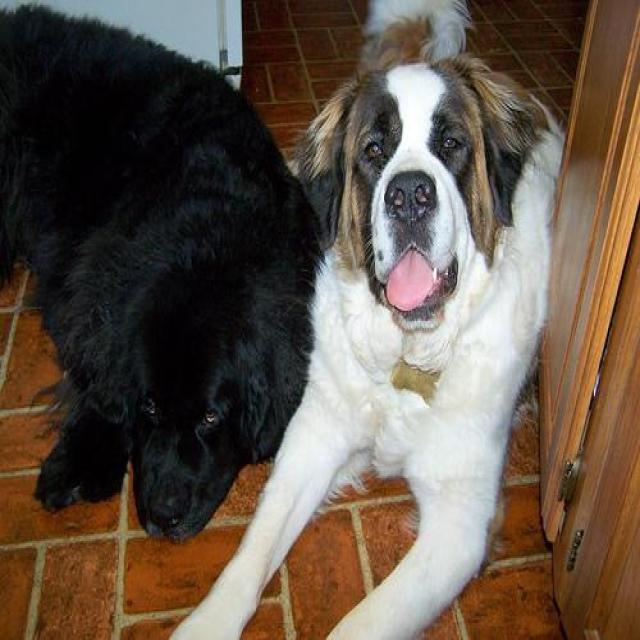happy: (278, 47, 564, 438)
